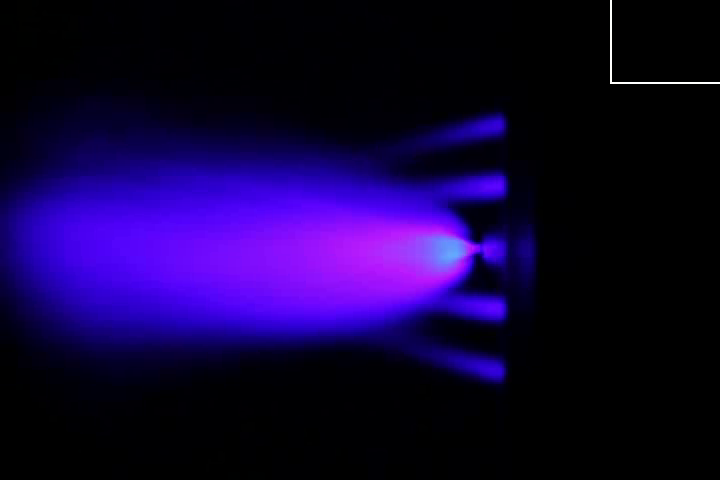pilot flame: (394, 340, 505, 381), (407, 111, 505, 148), (428, 290, 511, 325), (428, 172, 508, 201)
stable: (374, 218, 479, 283), (479, 236, 508, 269)
